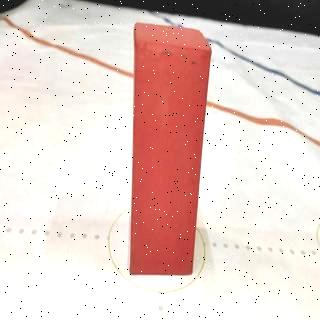redbox: (130, 21, 212, 274)
